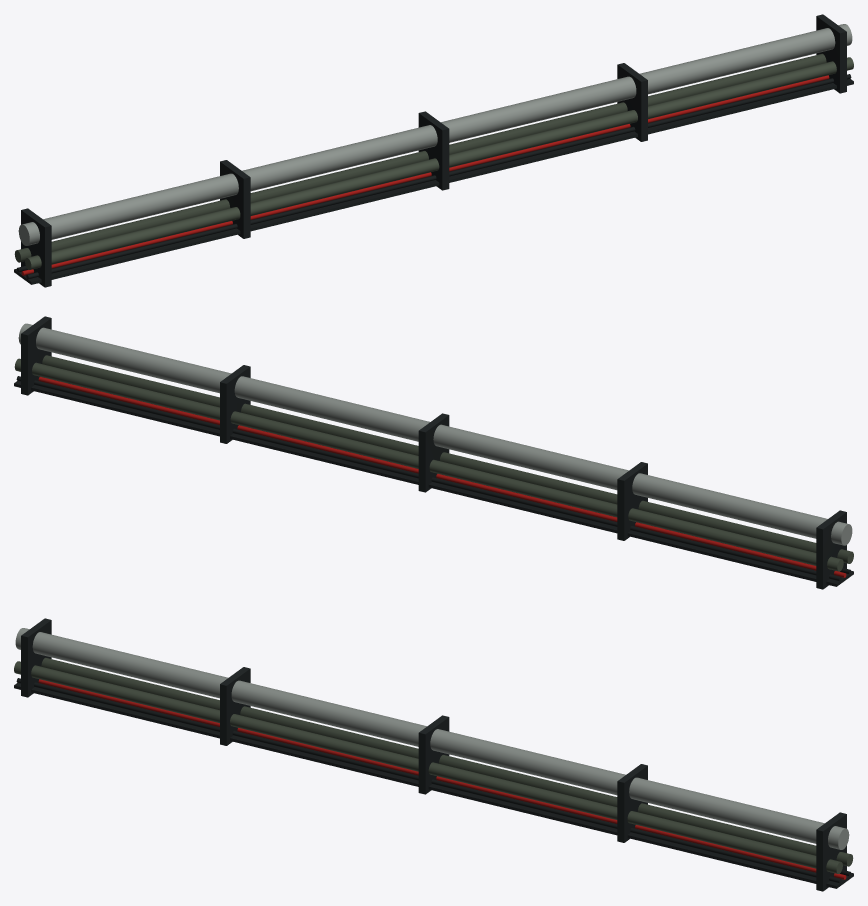
File: pipe_run_6.glb
3 views of the same model, one above another, from view 1: azimuth 30°, elevation 25°; view 2: azimuth 150°, elevation 25°; view 3: azimuth 330°, elevation 25° (orthographic).
Parts seen in each view (by area): view 1: PipeRun6; view 2: PipeRun6; view 3: PipeRun6.
Boxes of the visible parts, left/top/right/bottom form: PipeRun6: left=14, top=14, right=853, bottom=287; PipeRun6: left=14, top=316, right=853, bottom=589; PipeRun6: left=14, top=618, right=853, bottom=891.
Size of the model in its own units: 6 by 0.42 by 0.3.
